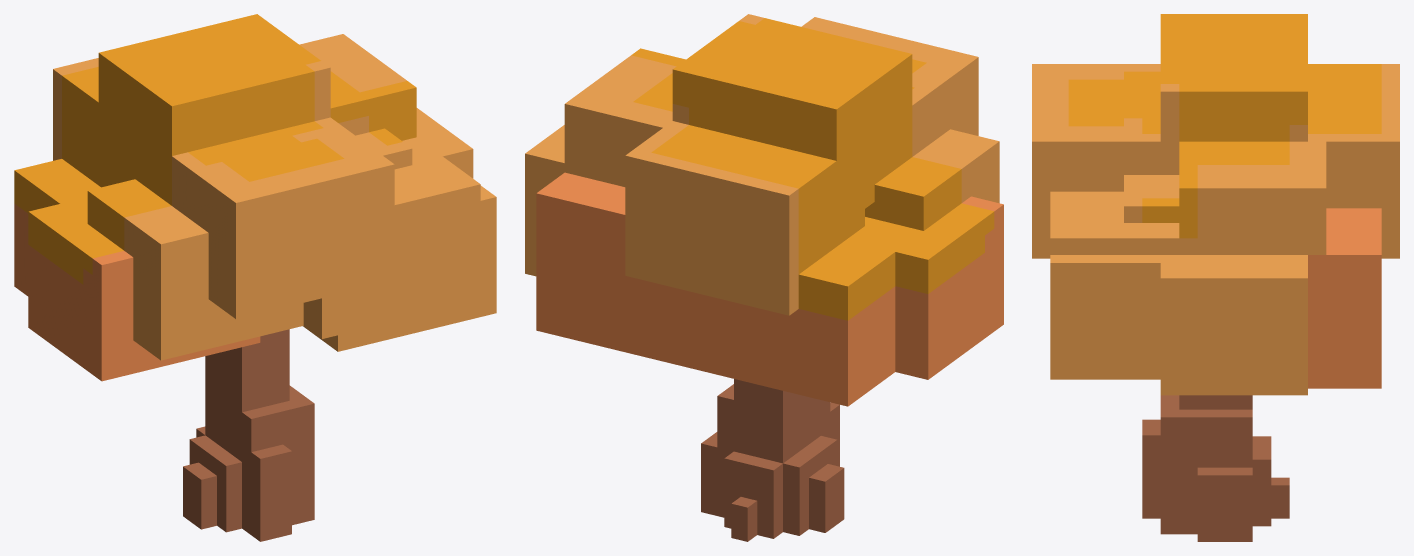
File: tree_var_2.glb
3 renders of one model, left to right at view 1: azimuth 30°, elevation 25°; view 2: azimuth 150°, elevation 25°; view 3: azimuth 270°, elevation 25°, orthographic. The views are drawn at different scales.
Parts seen in each view (by area): view 1: Untitled; view 2: Untitled; view 3: Untitled.
Boxes of the visible parts, x1,y1,x2,y2 form: Untitled: (14,14,496,541); Untitled: (525,14,1003,541); Untitled: (1032,14,1399,541).
Size of the model in its own units: 2.4 by 2.7 by 2.
Materials: 1 (1 with a texture image).
